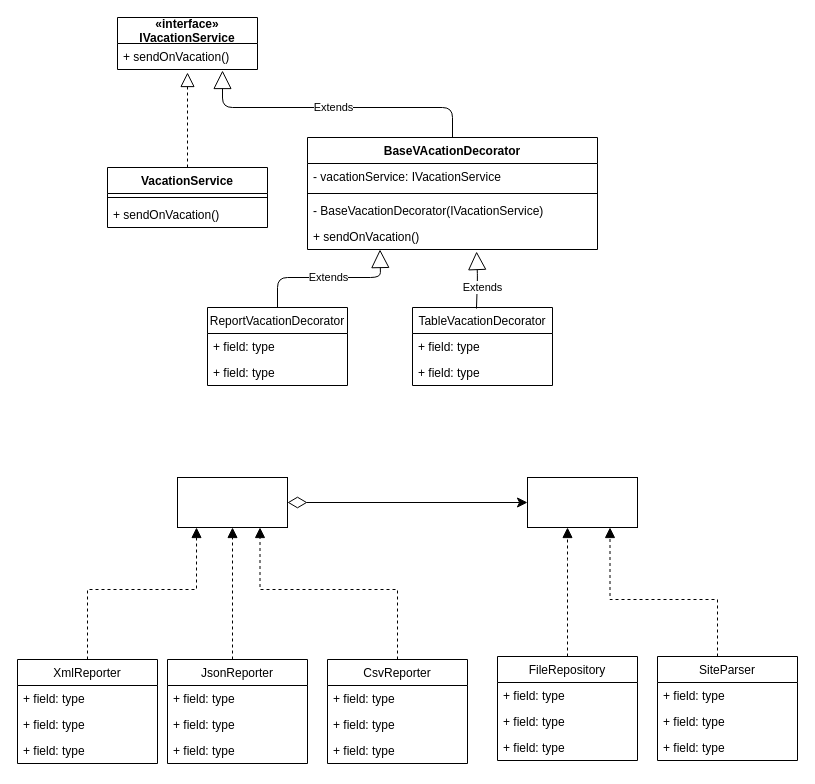
Image size: 815x784. Some labels were removed from this diagram. Each missing label, with the centre of its shape:
«interface» IDataRepository: the point at 582,502
«interface» IReporter: the point at 232,502
